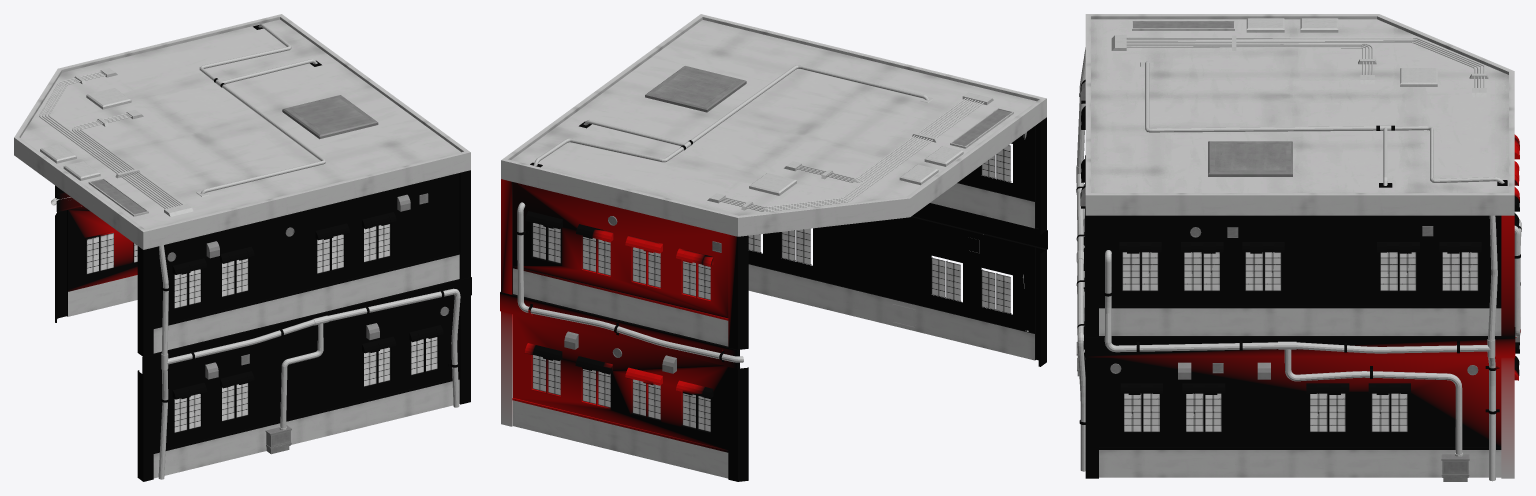
The model's file is REDUCTION_SM_ENV_KNVLLG_CommonBuilding_D_1.mo.fbx.
3 renders of one model, left to right at view 1: azimuth 30°, elevation 25°; view 2: azimuth 150°, elevation 25°; view 3: azimuth 270°, elevation 25°, orthographic. The views are drawn at different scales.
Visible parts, largest first — view 1: REDUCTION_SM_ENV_KNVLLG_CommonBuilding_D_1.mo; view 2: REDUCTION_SM_ENV_KNVLLG_CommonBuilding_D_1.mo; view 3: REDUCTION_SM_ENV_KNVLLG_CommonBuilding_D_1.mo.
Part boxes in pixels (x1,y1,x2,y2): REDUCTION_SM_ENV_KNVLLG_CommonBuilding_D_1.mo: (14,14,471,481); REDUCTION_SM_ENV_KNVLLG_CommonBuilding_D_1.mo: (500,14,1047,481); REDUCTION_SM_ENV_KNVLLG_CommonBuilding_D_1.mo: (1076,14,1521,481).
Bounding box in the file's own units: 19.75 × 14.2 × 19.95.
